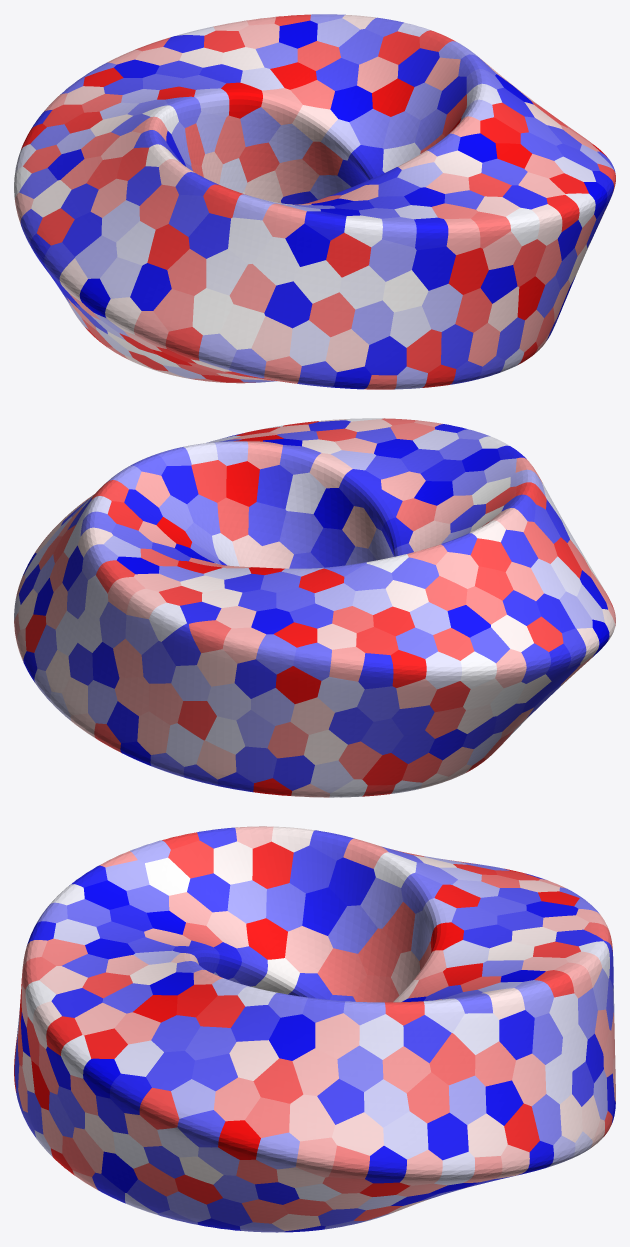
Rendered from Ours_600_mobius1_Iter22_RVD.obj.
3 views of the same model, one above another, from view 1: azimuth 30°, elevation 25°; view 2: azimuth 150°, elevation 25°; view 3: azimuth 270°, elevation 25° (orthographic). The views are drawn at different scales.
Visible parts, largest first — view 1: 3D_Object; view 2: 3D_Object; view 3: 3D_Object.
Part boxes in pixels (x1,y1,x2,y2): 3D_Object: (14, 14, 615, 389); 3D_Object: (14, 418, 615, 797); 3D_Object: (14, 826, 615, 1232).
Bounding box in the file's own units: 6.8 × 2.63 × 6.26.
Materials: 1 (1 with a texture image).
